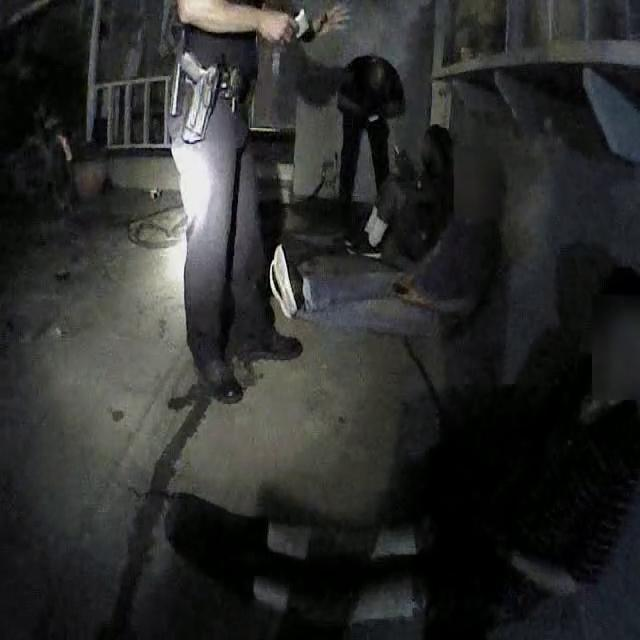gun: (175, 43, 228, 152)
